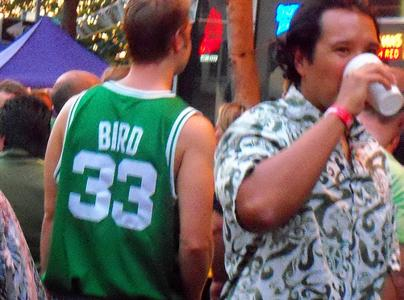person: (208, 1, 400, 298)
